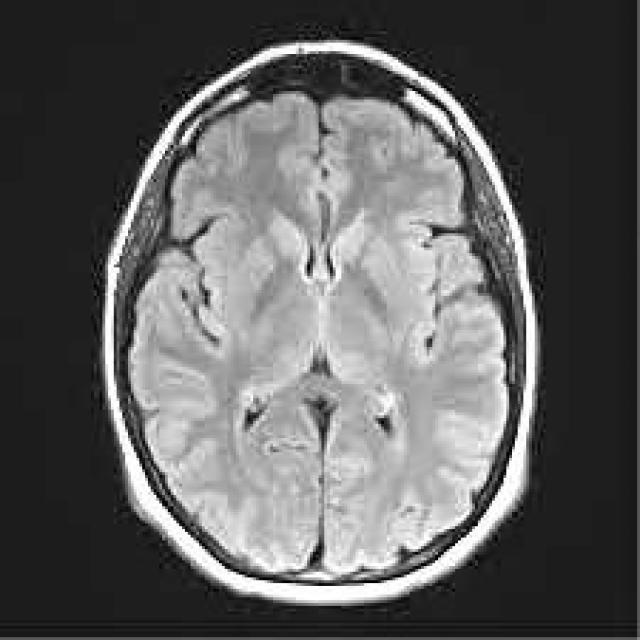notumor: (100, 40, 543, 609)
